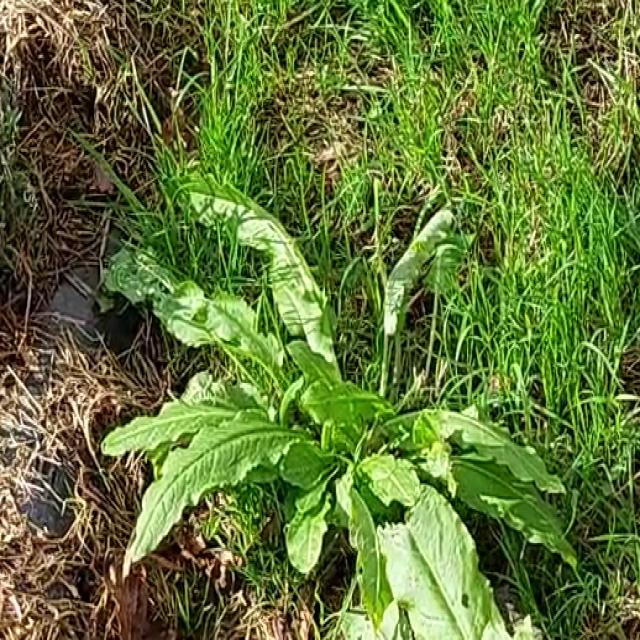organic waste: (38, 116, 560, 640)
